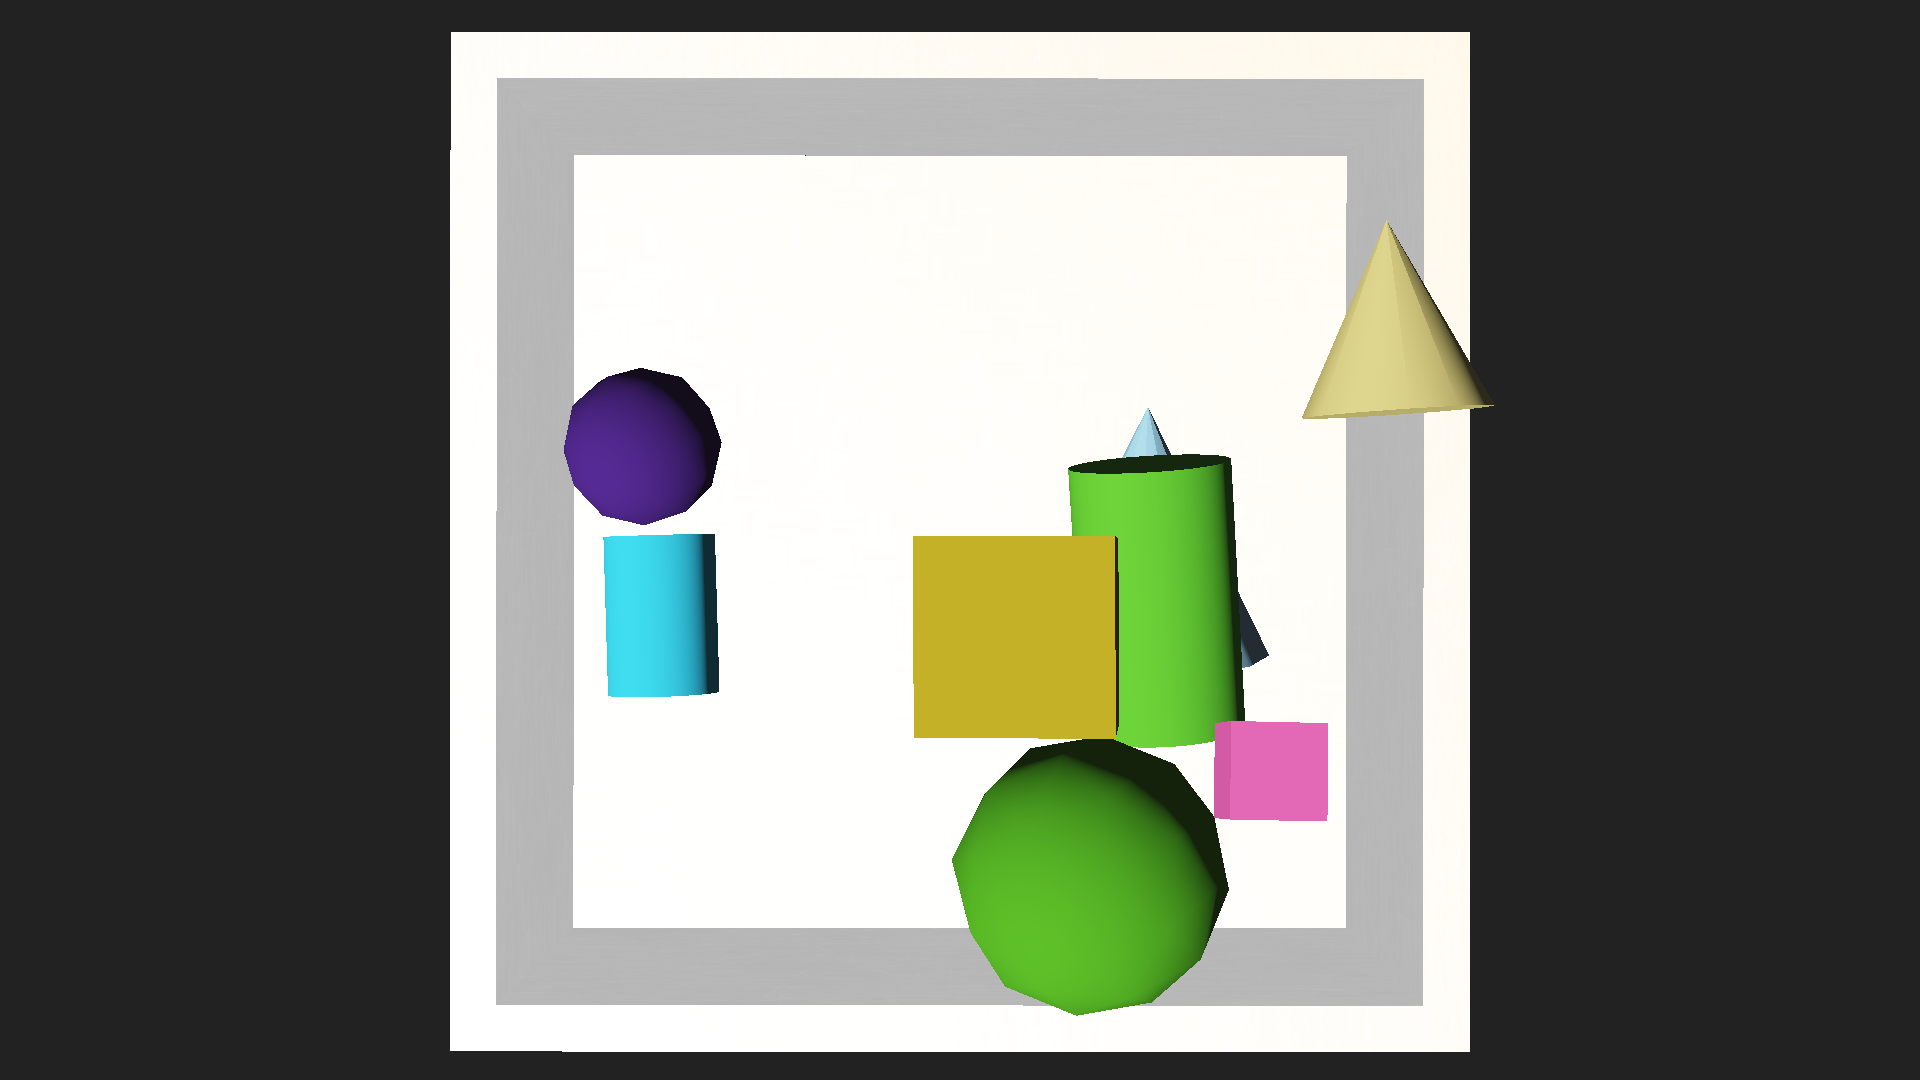3: (913, 535, 1131, 741), (1211, 712, 1329, 832)
cone: (1063, 448, 1259, 750), (596, 531, 724, 698)
cylinder: (1280, 199, 1511, 423)
sphere: (951, 735, 1229, 1014), (563, 367, 721, 526)
